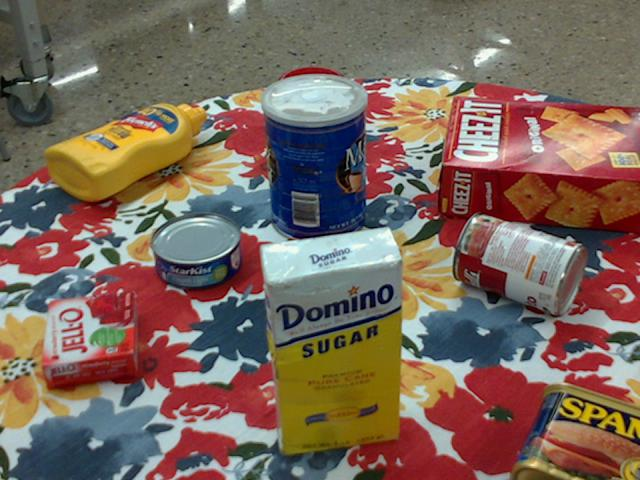cracker_box: (439, 96, 639, 233)
gelatin_box: (43, 294, 139, 392)
master_chef_can: (262, 73, 368, 244)
mug: (275, 67, 363, 160)
mustard_bottle: (44, 103, 205, 200)
potted_meat_can: (513, 380, 639, 479)
sugar_box: (257, 225, 401, 458)
tomato_soup_can: (455, 212, 589, 314)
tuna_fish_can: (149, 213, 241, 290)
